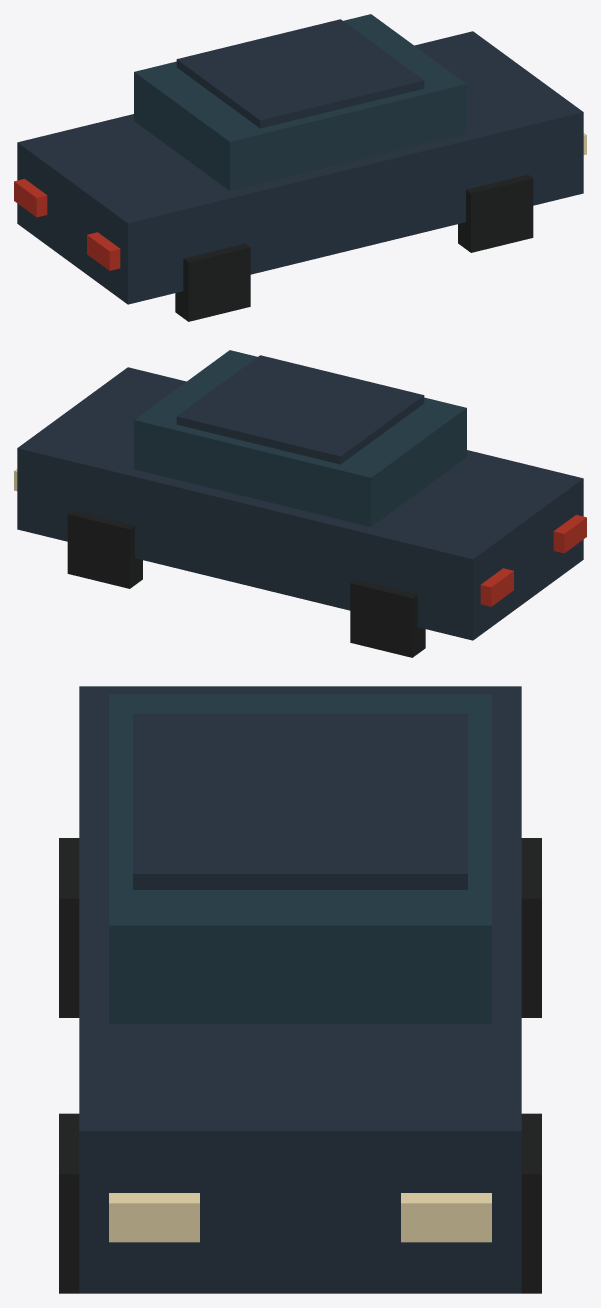
The model's file is traffic-car-1.glb.
3 renders of one model, top to bottom at view 1: azimuth 30°, elevation 25°; view 2: azimuth 150°, elevation 25°; view 3: azimuth 270°, elevation 25°, orthographic. The views are drawn at different scales.
Size of the model in its own units: 4.61 by 1.53 by 2.02.
